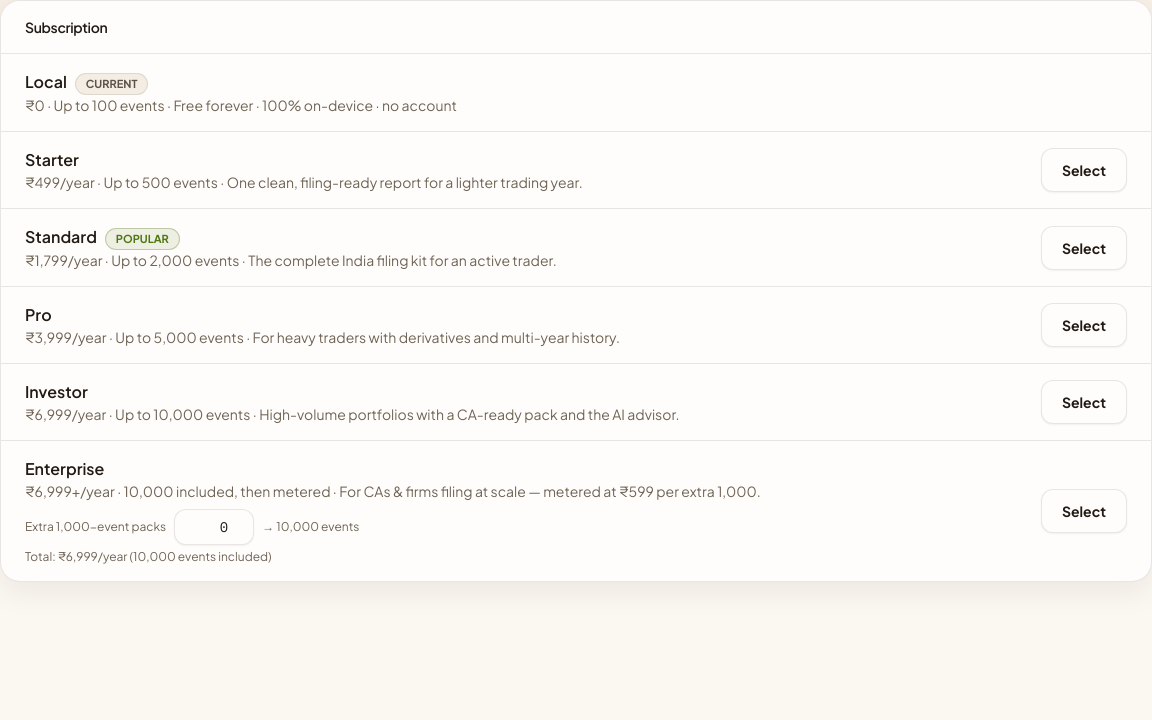
Test: SubscriptionCard — Item 4: Enterprise total + Select › recomputes live for 1 pack
Replace the text in the number field named "Enterprise extra 1,000-event packs" with "1" at [214, 527], box x1=174 y1=509 x2=254 y2=545
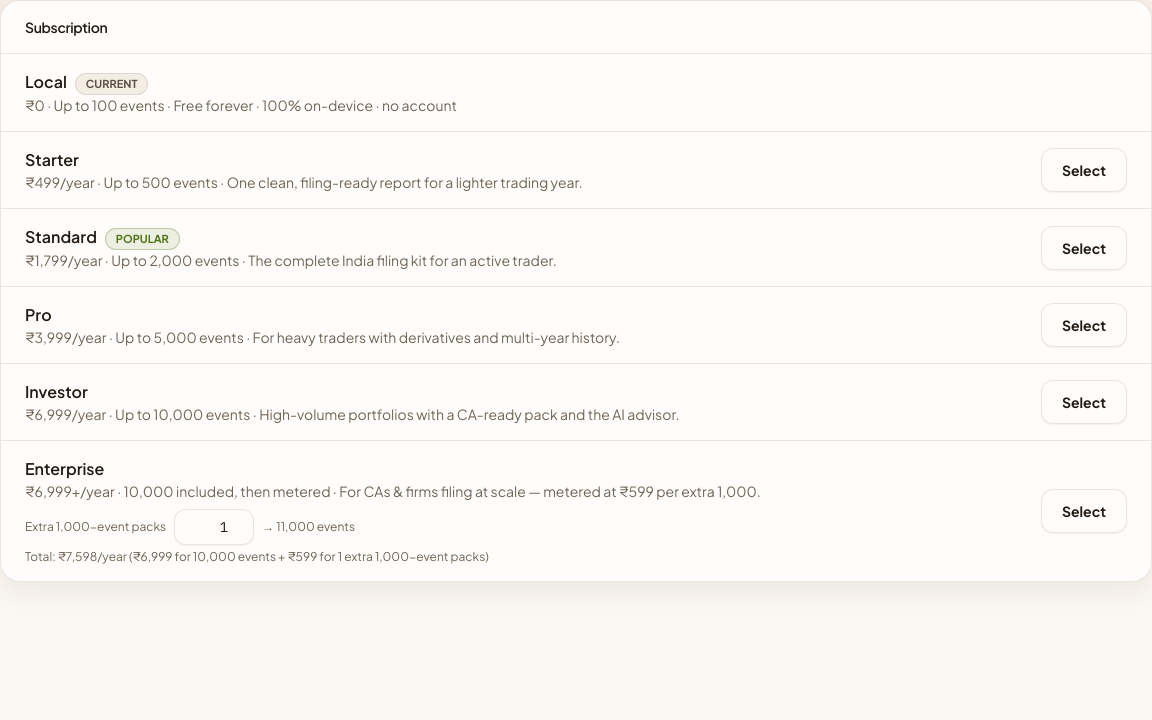
Expected: the text "Total: ₹7,598/year (₹6,999 for 10,000 events + ₹599 for 1 extra 1,000-event packs)" is shown, x1=25 y1=549 x2=489 y2=564
Expected: the text "→ 11,000 events" is shown, x1=262 y1=519 x2=355 y2=535
